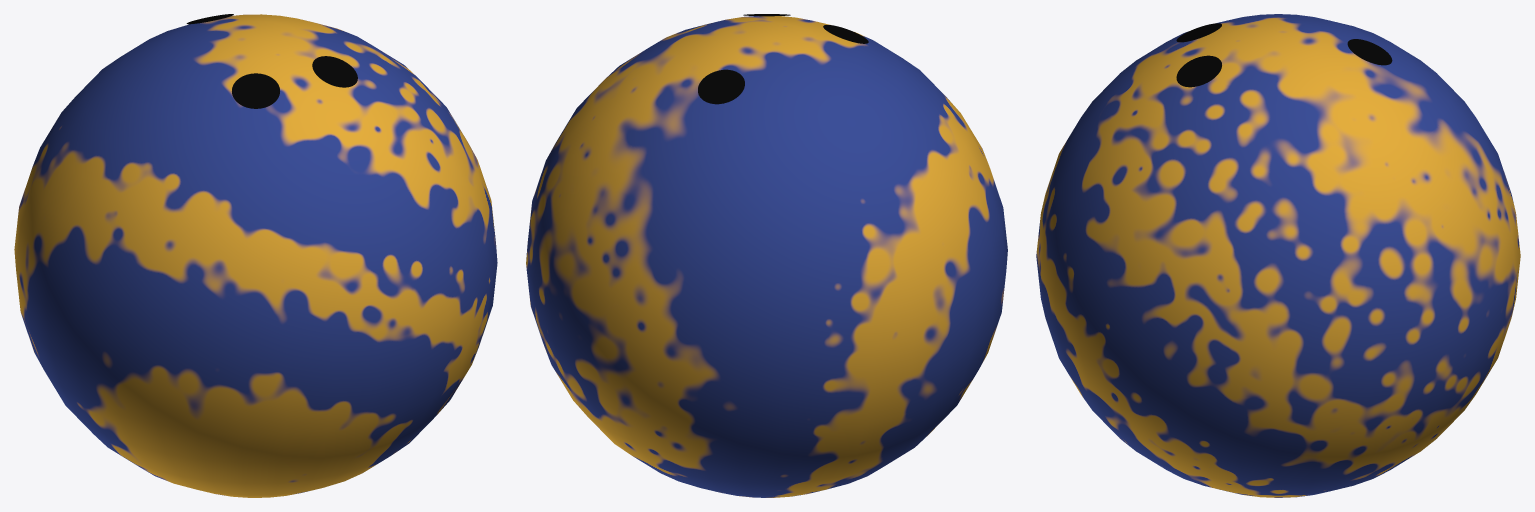
Rendered from ball_blueGold.gltf.
3 renders of one model, left to right at view 1: azimuth 30°, elevation 25°; view 2: azimuth 150°, elevation 25°; view 3: azimuth 270°, elevation 25°, orthographic.
Parts seen in each view (by area): view 1: blueGold; view 2: blueGold; view 3: blueGold.
Part boxes in pixels (left/top/right/bottom): blueGold: left=14, top=14, right=497, bottom=497; blueGold: left=526, top=14, right=1007, bottom=497; blueGold: left=1036, top=14, right=1520, bottom=497.
Bounding box in the file's own units: 0.25 × 0.25 × 0.25.
2 materials, 1 textured.
